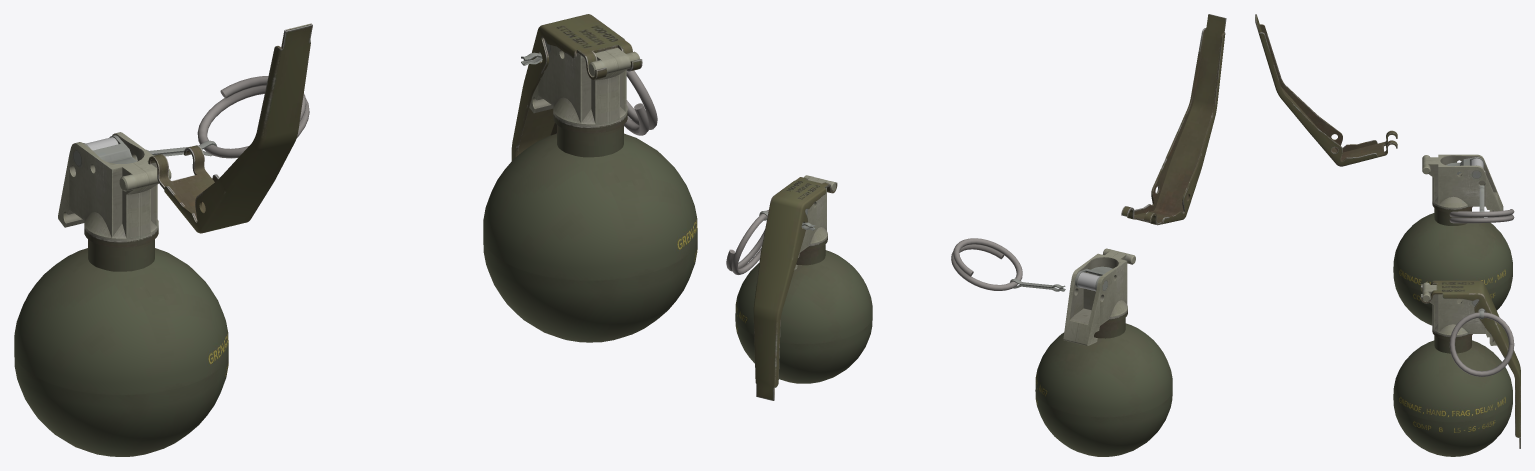
Rendered from item_m67.glb.
3 renders of one model, left to right at view 1: azimuth 30°, elevation 25°; view 2: azimuth 150°, elevation 25°; view 3: azimuth 270°, elevation 25°, orthographic. The views are drawn at different scales.
Visible parts, largest first — view 1: m67_base.001, m67_base, m67_spoon.001, m67_spoon, m67_ring.001, m67_ring, m67_striker.001; view 2: m67_base.001, m67_base, m67_spoon, m67_spoon.001, m67_ring.001, m67_ring, m67_striker.001; view 3: m67_base, m67_base.001, m67_spoon.001, m67_spoon, m67_ring, m67_ring.001.
Part boxes in pixels (x1,y1,x2,y2): m67_base.001: [14, 132, 228, 456]; m67_base: [483, 39, 697, 342]; m67_spoon.001: [148, 23, 312, 233]; m67_spoon: [511, 14, 642, 160]; m67_ring.001: [197, 76, 309, 158]; m67_ring: [624, 70, 657, 135]; m67_striker.001: [83, 135, 137, 163]; m67_base.001: [1035, 248, 1172, 456]; m67_base: [735, 175, 872, 383]; m67_spoon: [753, 176, 837, 400]; m67_spoon.001: [1121, 14, 1226, 225]; m67_ring.001: [951, 238, 1022, 290]; m67_ring: [726, 210, 768, 274]; m67_striker.001: [1075, 266, 1112, 291]; m67_base: [1393, 282, 1512, 456]; m67_base.001: [1393, 154, 1512, 325]; m67_spoon.001: [1255, 14, 1397, 166]; m67_spoon: [1420, 280, 1520, 448]; m67_ring: [1449, 312, 1514, 376]; m67_ring.001: [1449, 209, 1514, 223].
Bounding box in the file's own units: 0.2077 × 0.1666 × 0.1312.
Materials: 1 (1 with a texture image).
